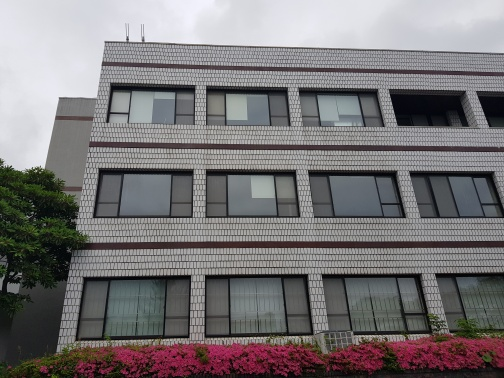Foreign Language Institute: (54, 28, 504, 362), (88, 154, 504, 231), (98, 62, 388, 142)
